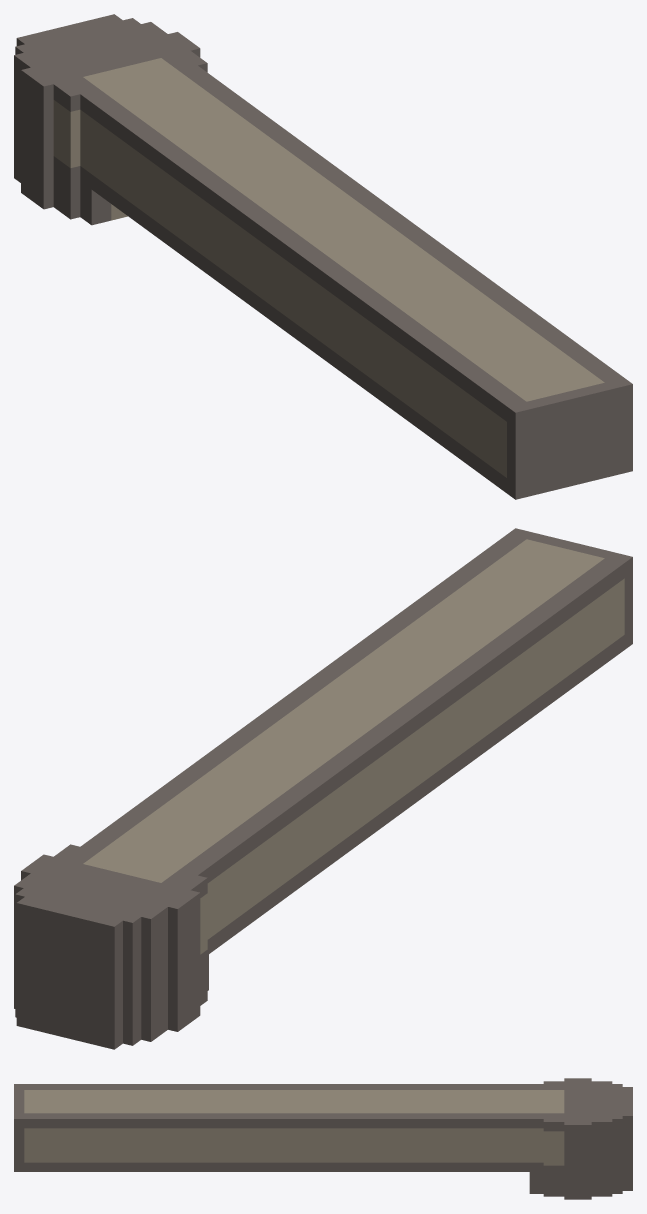
File: bullpup_submachine_gun_mag.fbx
The picture shows the model from 3 angles, top to bottom: view 1: azimuth 30°, elevation 25°; view 2: azimuth 150°, elevation 25°; view 3: azimuth 270°, elevation 25°; orthographic projection. The views are drawn at different scales.
Visible parts, largest first — view 1: bullpup_submachine_gun_mag; view 2: bullpup_submachine_gun_mag; view 3: bullpup_submachine_gun_mag.
Boxes of the visible parts, x1=… form: bullpup_submachine_gun_mag: x1=14, y1=14, x2=632, y2=499; bullpup_submachine_gun_mag: x1=14, y1=528, x2=632, y2=1049; bullpup_submachine_gun_mag: x1=14, y1=1078, x2=632, y2=1199.
Size of the model in its own units: 9.6 by 7.2 by 54.
